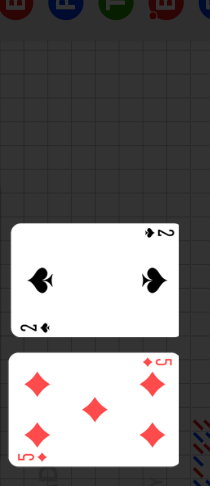2S: (142, 226, 175, 240)
9D: (141, 356, 174, 368)
